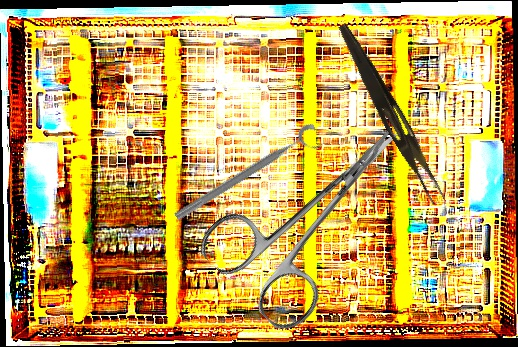Dressing Forceps: (328, 21, 453, 206)
Fixation Ring: (171, 121, 326, 233)
Iris Scissors: (192, 87, 444, 340)
